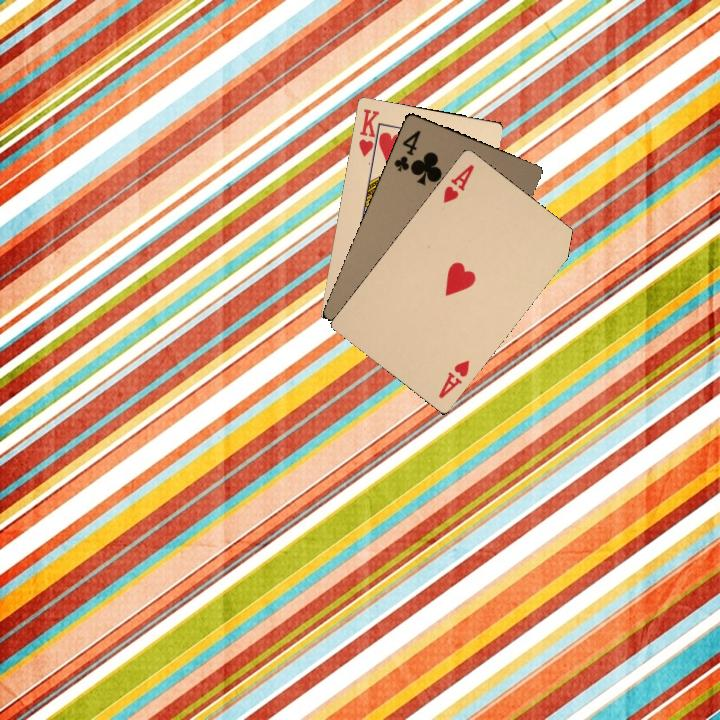4c: (389, 126, 423, 174)
Ah: (439, 160, 477, 206), (434, 356, 472, 401)
Kh: (354, 105, 383, 161)
